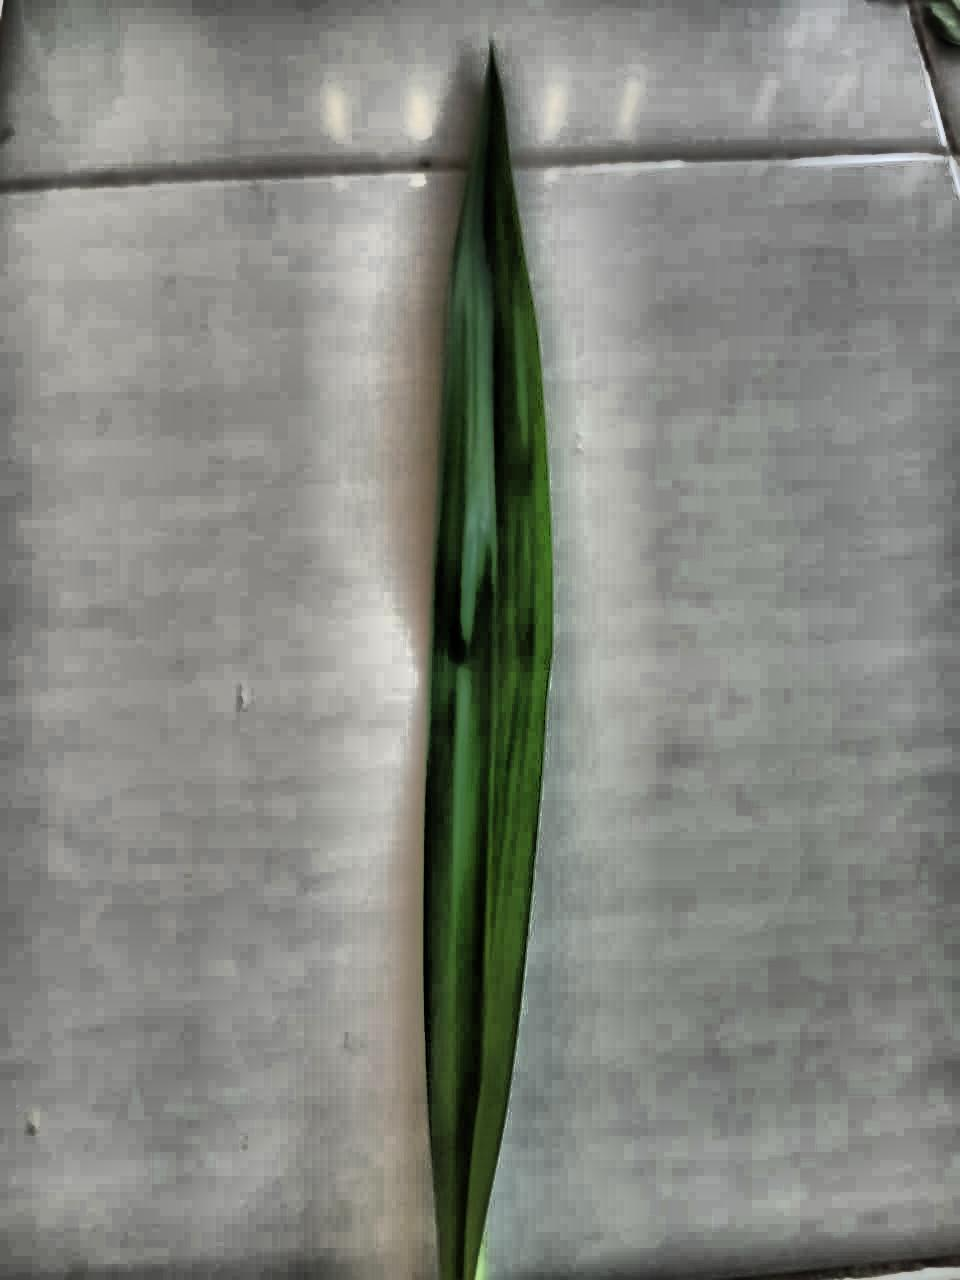daun pandan: (424, 50, 553, 1279)
